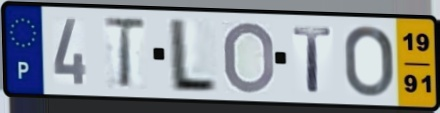4: (52, 17, 89, 87)
L: (166, 16, 221, 95)
O: (221, 19, 277, 96), (341, 23, 396, 99)
T: (100, 16, 149, 91), (290, 24, 335, 94)
